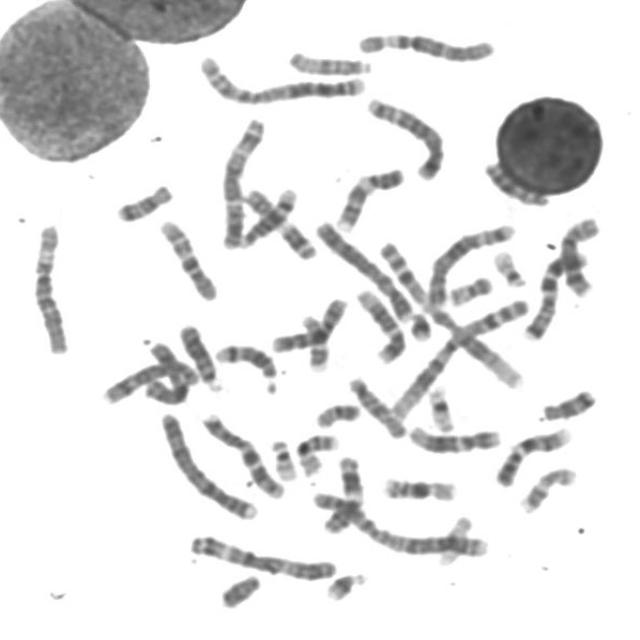A1: (371, 233, 528, 392), (383, 290, 534, 422)
A2: (308, 486, 491, 560), (194, 48, 371, 106)
A3: (184, 527, 341, 582), (215, 110, 270, 250)
B4: (154, 406, 261, 522), (312, 215, 418, 323)
B5: (422, 217, 519, 308), (362, 90, 449, 181)
C10: (153, 213, 222, 303), (265, 290, 351, 354)
C11: (239, 182, 320, 261), (318, 448, 368, 536)
C12: (351, 282, 409, 365), (404, 418, 505, 455)
C6: (27, 218, 74, 356), (352, 26, 500, 64)
C7: (197, 407, 290, 500), (518, 245, 595, 342)
C8: (98, 352, 202, 406), (559, 214, 610, 298)
C9: (491, 421, 576, 488), (331, 160, 409, 232)
D13: (479, 154, 554, 208), (173, 317, 226, 393)
D14: (235, 181, 302, 249), (211, 336, 282, 390)
D15: (345, 370, 411, 440), (284, 43, 376, 77)
E16: (378, 470, 461, 503), (291, 428, 343, 477)
E17: (516, 460, 581, 515), (296, 308, 332, 372)
E18: (110, 176, 177, 224), (536, 382, 600, 422)
F19: (432, 509, 477, 567), (422, 378, 459, 433)
F20: (442, 268, 497, 308), (310, 398, 365, 429)
G21: (321, 565, 371, 603), (404, 304, 436, 342)
G22: (488, 243, 532, 289), (265, 432, 301, 482)
X: (140, 333, 193, 408)
Y: (215, 567, 266, 610)
